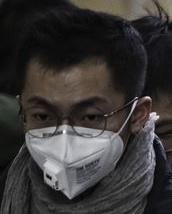OK: (22, 89, 131, 202)
